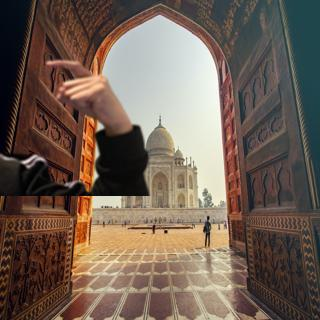WHY: (40, 54, 128, 131)
